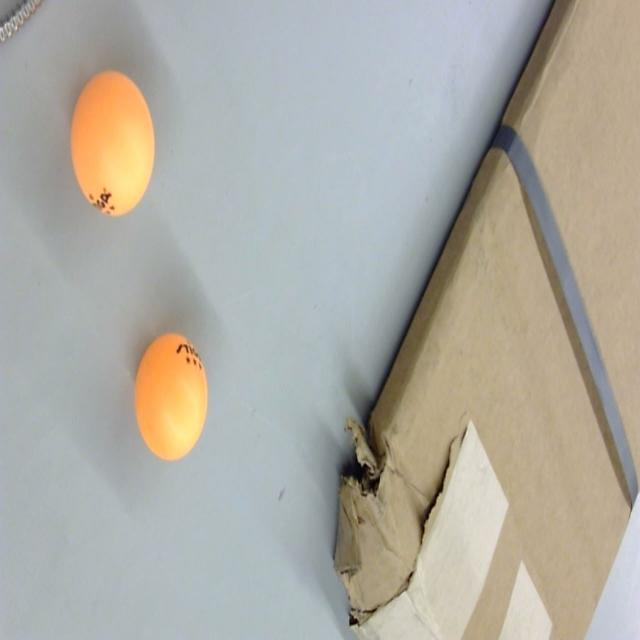ball: (69, 64, 157, 220), (132, 332, 209, 464)
